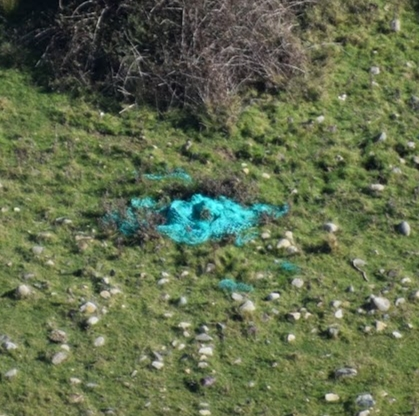net: (110, 167, 292, 248), (216, 270, 257, 294)
white_in_green: (268, 247, 310, 283)
